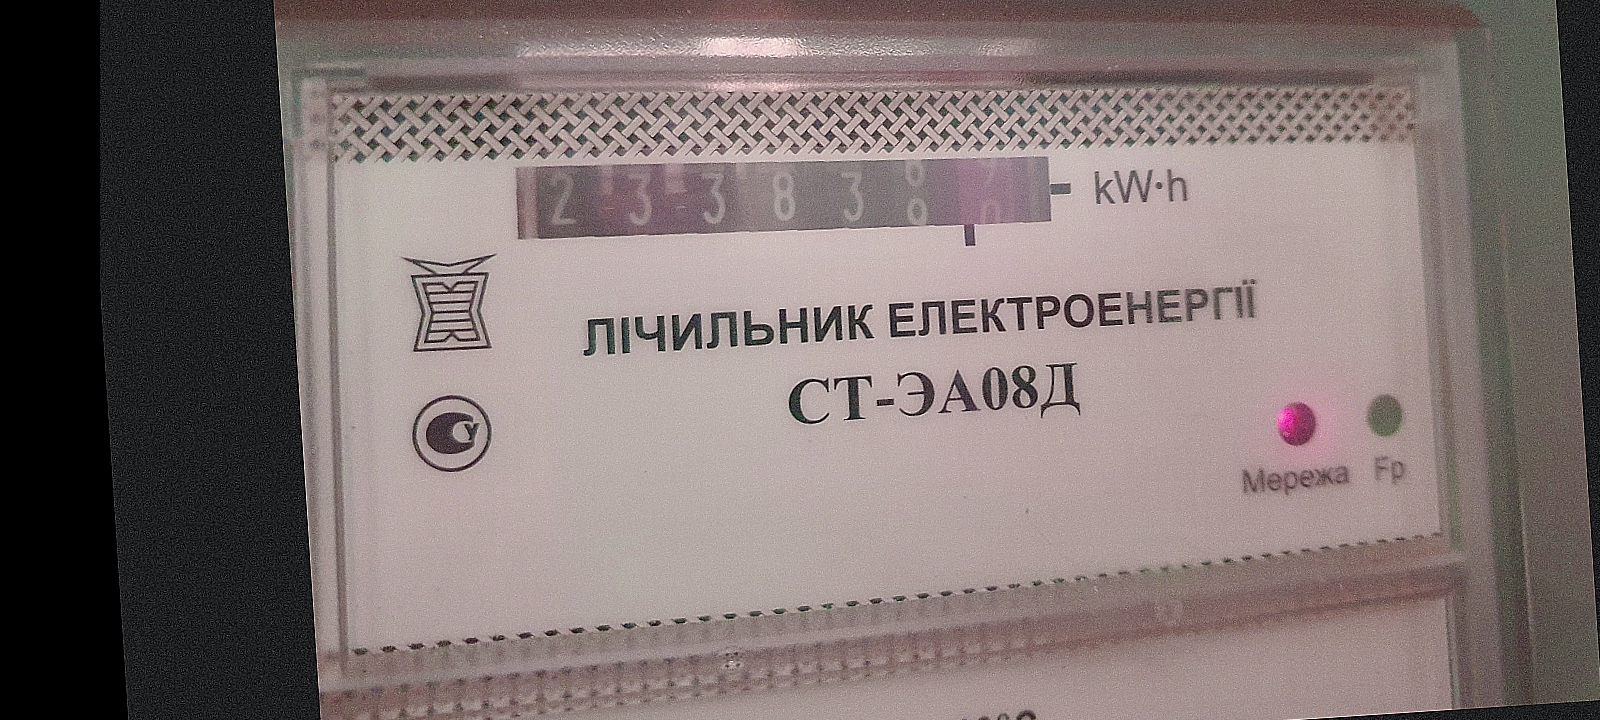0: (977, 195, 1005, 232)
2: (542, 167, 585, 230)
3: (693, 164, 733, 230), (624, 168, 656, 228), (838, 165, 870, 223)
8: (766, 164, 803, 225), (903, 154, 931, 188)
9: (972, 151, 1005, 192), (903, 193, 934, 232)
screen: (484, 108, 1086, 303)
